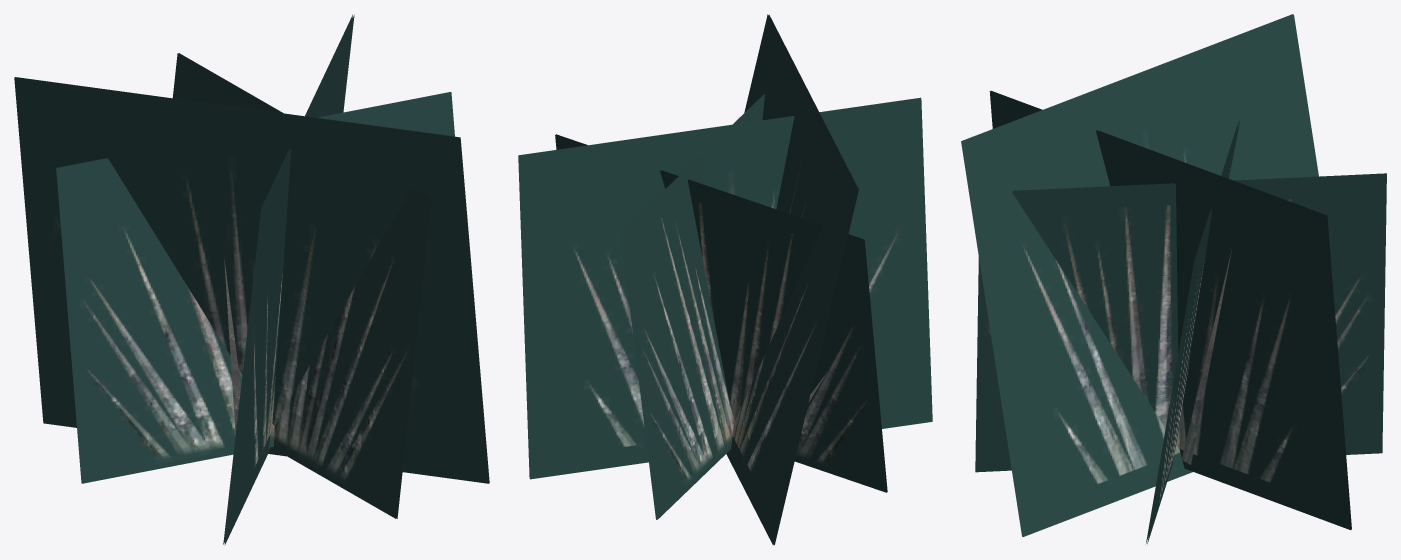
File: rock_crystl_shrpbush_sm_l2.fbx
3 renders of one model, left to right at view 1: azimuth 30°, elevation 25°; view 2: azimuth 150°, elevation 25°; view 3: azimuth 270°, elevation 25°, orthographic. The views are drawn at different scales.
Parts seen in each view (by area): view 1: mesh_node; view 2: mesh_node; view 3: mesh_node.
Part boxes in pixels (box(x1,y1,x2,y2)): mesh_node: box(14, 14, 489, 545); mesh_node: box(518, 14, 932, 545); mesh_node: box(961, 14, 1386, 543).
Size of the model in its own units: 1.74 by 1.65 by 1.73.
